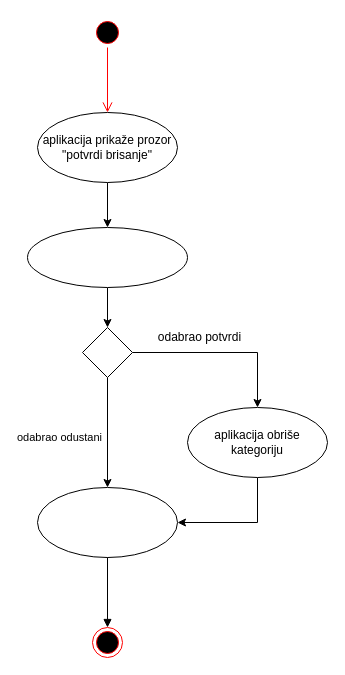
The diagram is 345 pixels wide and 675 high, and some of its shapes have lost their labels. The box of each missing label's shape, as (x1, y1, x2, y2) in pixels:
aplikacija zatvori prozor "potvrdi brisanje": (36, 486, 178, 558)
korisnik odabire potvrdi ili odustani: (26, 226, 188, 288)
